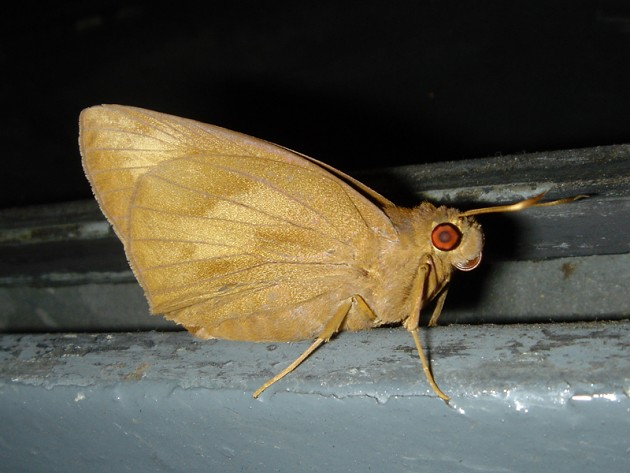feie: (76, 103, 518, 388)
